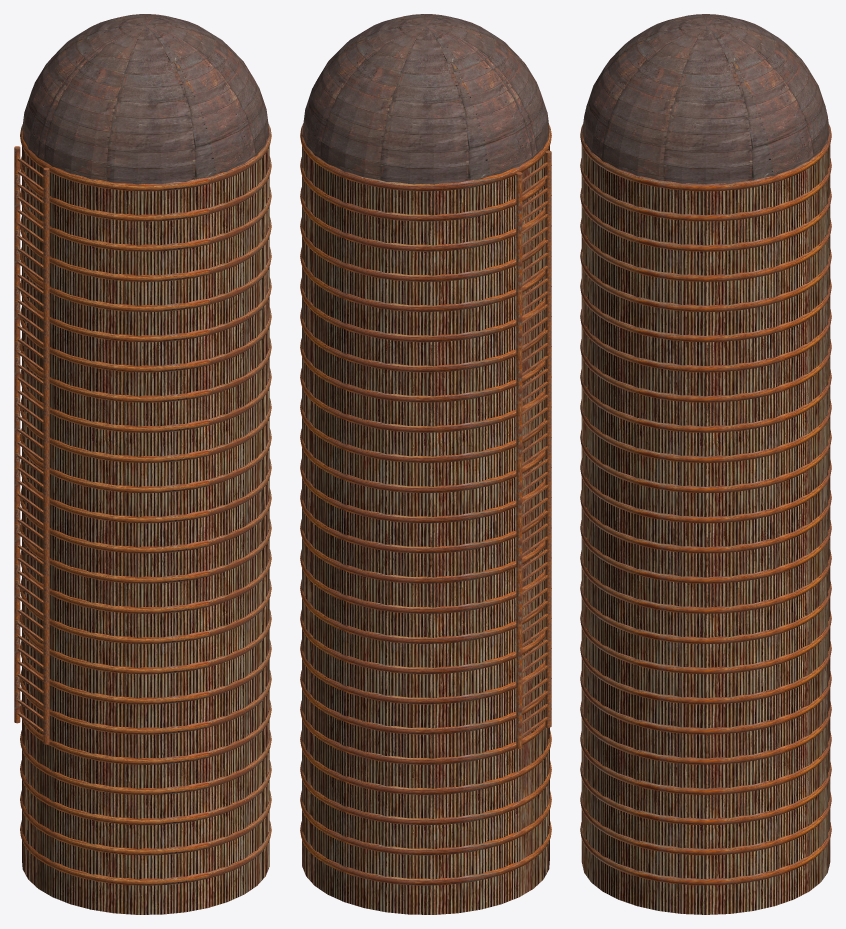
Rendered from silo.fbx.
3 views of the same model, side by side, from view 1: azimuth 30°, elevation 25°; view 2: azimuth 150°, elevation 25°; view 3: azimuth 270°, elevation 25° (orthographic).
Visible parts, largest first — view 1: Cylinder, BezierCircle, Cylinder.003, Cube, Cylinder.001, Cylinder.002; view 2: Cylinder, BezierCircle, Cylinder.003, Cube, Cylinder.002, Cylinder.001; view 3: Cylinder, BezierCircle, Cylinder.003.
Part boxes in pixels (x1,y1,x2,y2): Cylinder: [22, 146, 269, 914]; BezierCircle: [20, 123, 271, 885]; Cylinder.003: [22, 14, 269, 184]; Cube: [17, 158, 43, 732]; Cylinder.001: [43, 167, 49, 744]; Cylinder.002: [14, 146, 20, 723]; Cylinder: [302, 145, 549, 914]; BezierCircle: [300, 123, 551, 885]; Cylinder.003: [302, 14, 549, 184]; Cube: [522, 162, 548, 737]; Cylinder.002: [516, 172, 522, 748]; Cylinder.001: [545, 150, 551, 727]; Cylinder: [581, 145, 830, 914]; BezierCircle: [580, 124, 831, 885]; Cylinder.003: [582, 14, 829, 184].
Bounding box in the file's own units: 207 × 744 × 203.
